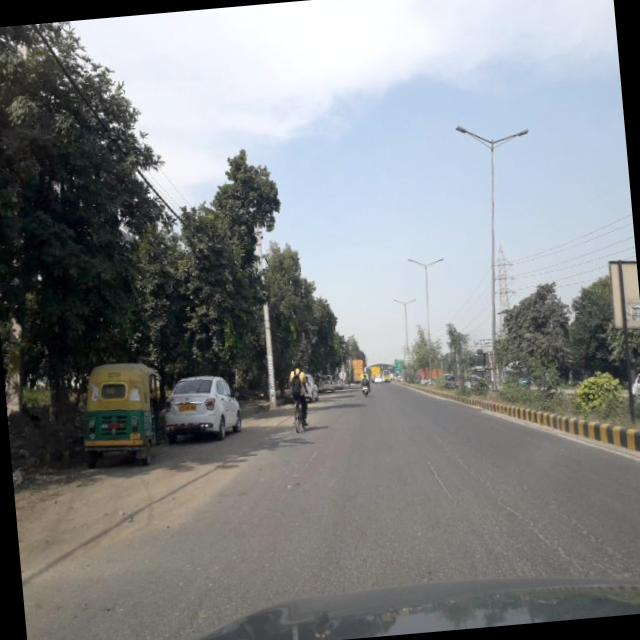pothole: (492, 498, 602, 580), (416, 432, 486, 511)
